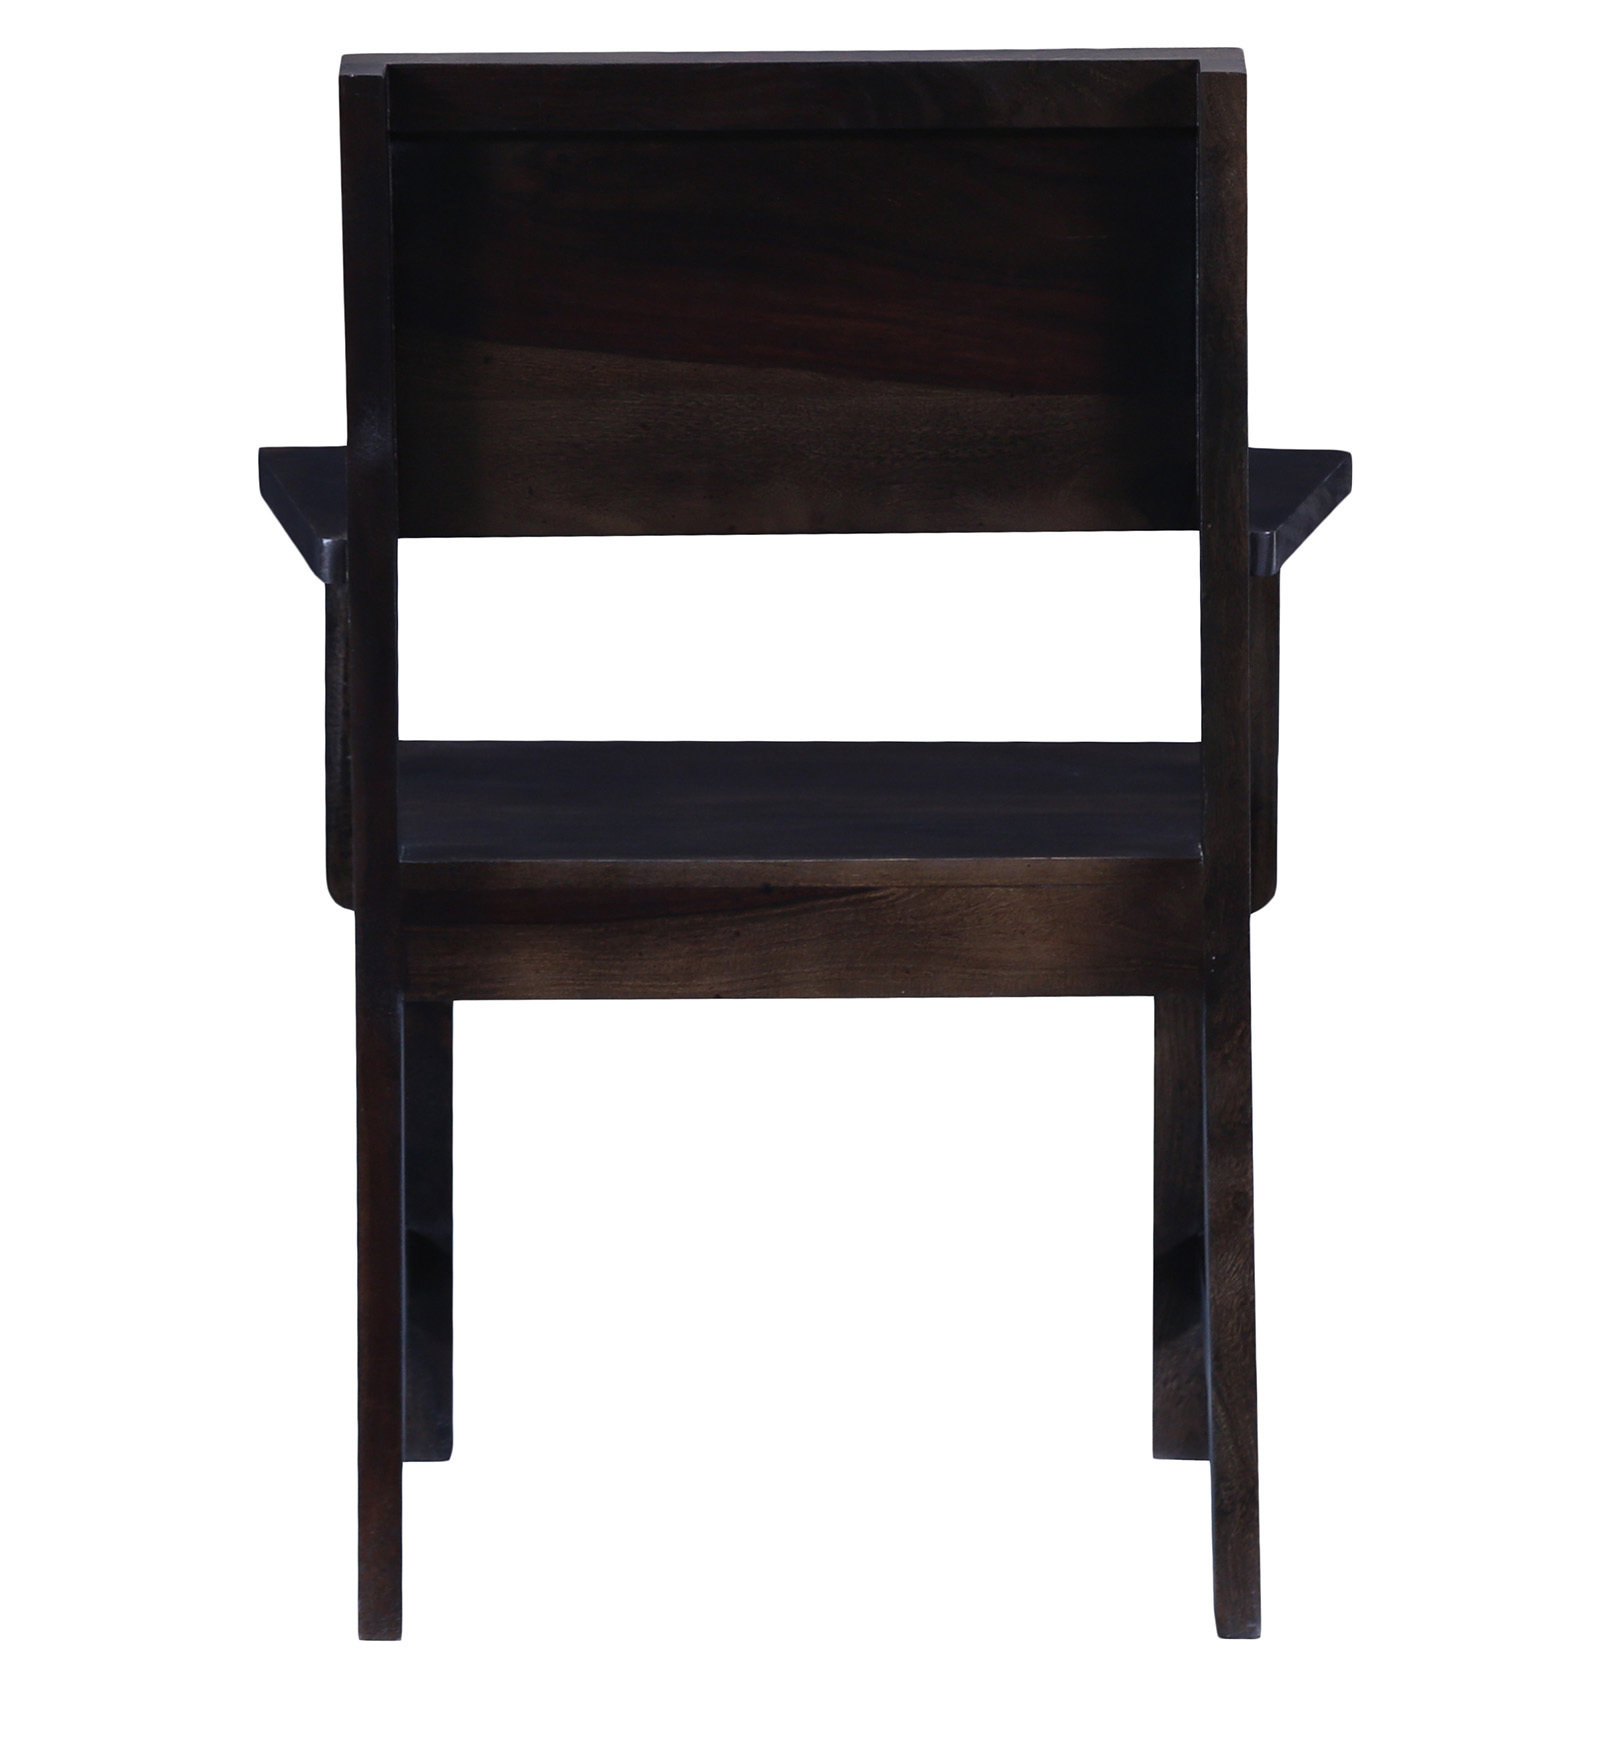Segur Arm Chair in Warm Chestnut Finish by Woodsworth: (244, 34, 1372, 1706)
